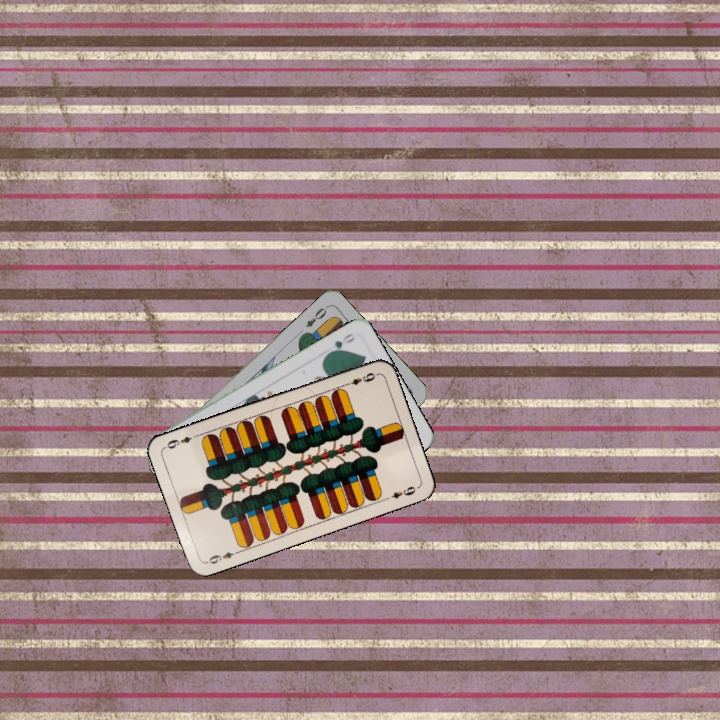E9: (202, 547, 242, 567), (340, 369, 379, 389)
EO: (301, 302, 331, 330)
GO: (323, 329, 358, 358)
